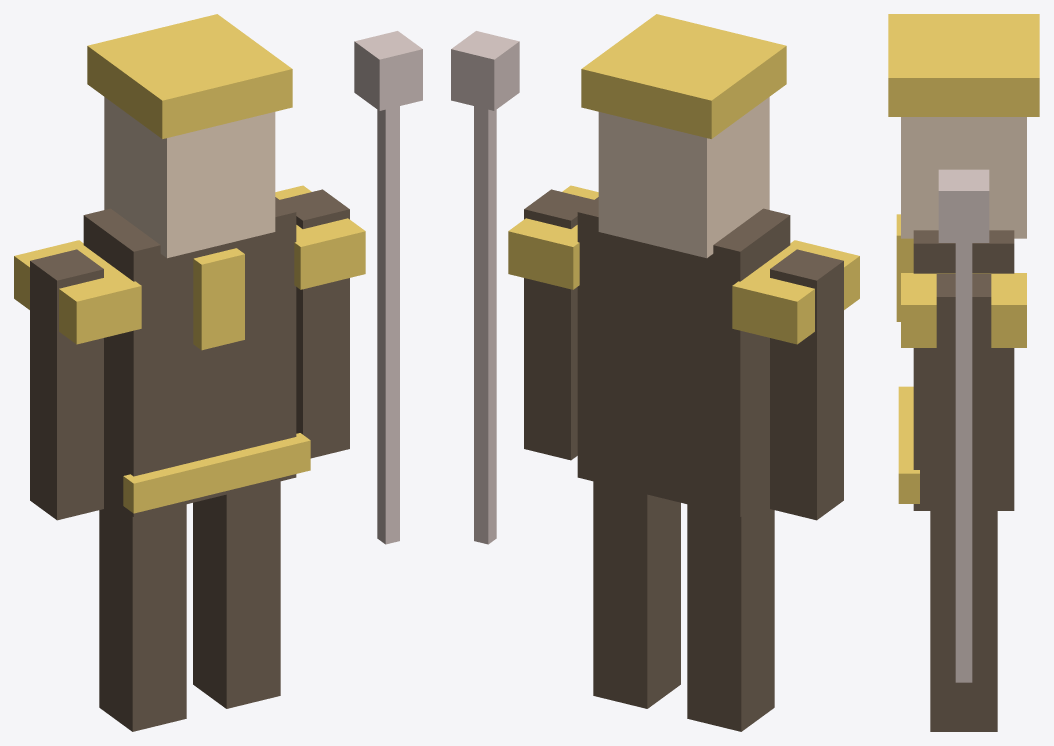
The model's file is 13_bryn_cinderholt_broker_at_express.glb.
The picture shows the model from 3 angles, left to right: view 1: azimuth 30°, elevation 25°; view 2: azimuth 150°, elevation 25°; view 3: azimuth 270°, elevation 25°; orthographic projection.
Visible parts, largest first — view 1: Bryn Cinderholt, Broker at Express; view 2: Bryn Cinderholt, Broker at Express; view 3: Bryn Cinderholt, Broker at Express.
Part boxes in pixels (x1,y1,x2,y2): Bryn Cinderholt, Broker at Express: [14, 14, 422, 731]; Bryn Cinderholt, Broker at Express: [451, 14, 859, 731]; Bryn Cinderholt, Broker at Express: [888, 14, 1039, 731].
Size of the model in its own units: 1.01 by 1.69 by 0.3578.
